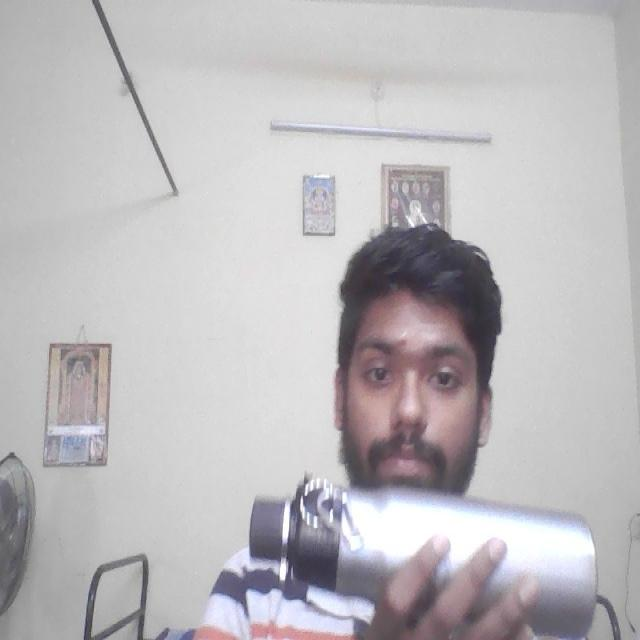Drinking: (250, 482, 609, 640)
